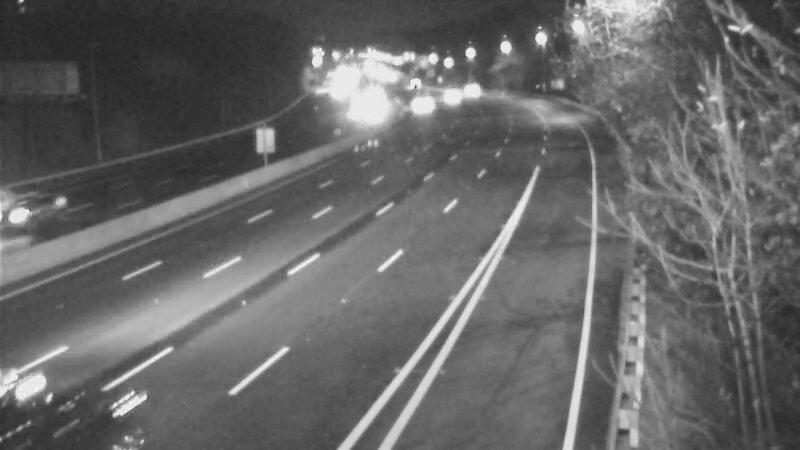vehicle: (10, 355, 120, 450), (1, 340, 92, 450), (1, 171, 75, 251), (1, 159, 63, 239), (451, 59, 501, 109), (422, 67, 472, 117), (403, 79, 453, 129)
